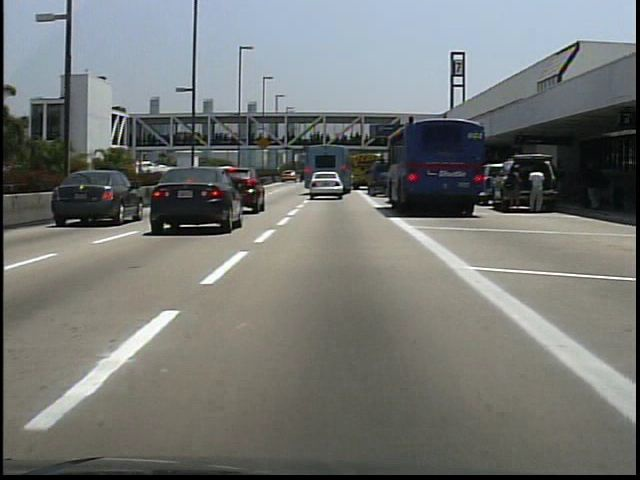person: (503, 163, 527, 219), (525, 160, 547, 216), (586, 161, 604, 212)
